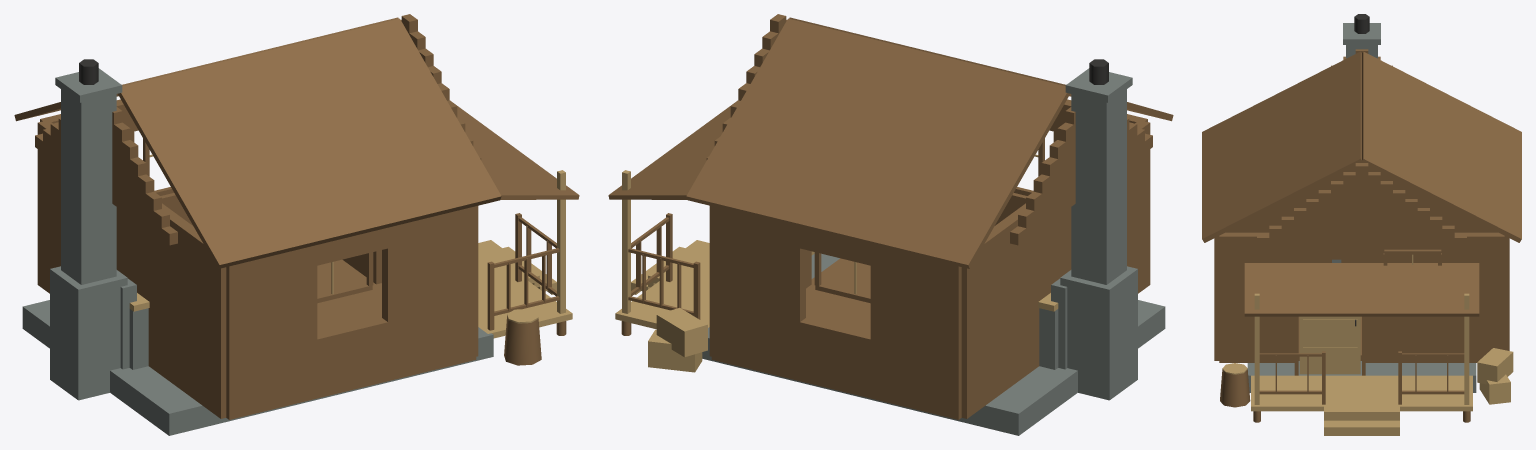
File: Farm house.glb
3 views of the same model, side by side, from view 1: azimuth 30°, elevation 25°; view 2: azimuth 150°, elevation 25°; view 3: azimuth 270°, elevation 25° (orthographic). The views are drawn at different scales.
Visible parts, largest first — view 1: Mesh_RoofA, Mesh_Body_WallBack, Mesh_Body_WallRight_L, Mesh_Body_WallRight_R, Mesh_ChimneyShaft, Mesh_ChimneyBase, Mesh_StoneBase, Mesh_Body_WallRight_Sill, Mesh_PorchRoof, Mesh_Body_Floor, Mesh_PorchFloor, Mesh_Body_WallRight_Lintel (+12 smaller); view 2: Mesh_RoofB, Mesh_Body_WallBack, Mesh_Body_WallLeft_R, Mesh_Body_WallLeft_L, Mesh_ChimneyShaft, Mesh_ChimneyBase, Mesh_StoneBase, Mesh_Body_WallLeft_Sill, Mesh_PorchRoof, Mesh_Body_Floor, Mesh_PorchFloor, Mesh_HayBale2 (+13 smaller); view 3: Mesh_RoofA, Mesh_RoofB, Mesh_PorchRoof, Mesh_Body_WallFront_L, Mesh_PorchFloor, Mesh_Body_WallFront_R, Mesh_Body_WallBack, Door, Mesh_StoneBase, Mesh_GableFront_0, Mesh_GableFront_1, Mesh_GableFront_2 (+21 smaller).
Part boxes in pixels (bbox=[...]): Mesh_RoofA: bbox=[118, 18, 501, 268]; Mesh_Body_WallBack: bbox=[37, 120, 226, 418]; Mesh_Body_WallRight_L: bbox=[226, 245, 317, 419]; Mesh_Body_WallRight_R: bbox=[382, 206, 476, 380]; Mesh_ChimneyShaft: bbox=[61, 89, 116, 284]; Mesh_ChimneyBase: bbox=[50, 266, 127, 400]; Mesh_StoneBase: bbox=[22, 300, 493, 435]; Mesh_Body_WallRight_Sill: bbox=[316, 318, 389, 398]; Mesh_PorchRoof: bbox=[450, 100, 579, 199]; Mesh_Body_Floor: bbox=[317, 259, 381, 333]; Mesh_PorchFloor: bbox=[478, 244, 572, 338]; Mesh_Body_WallRight_Lintel: bbox=[316, 227, 389, 265]; Mesh_RoofB: bbox=[686, 18, 1069, 268]; Mesh_Body_WallBack: bbox=[961, 120, 1150, 418]; Mesh_Body_WallLeft_R: bbox=[711, 206, 805, 381]; Mesh_Body_WallLeft_L: bbox=[870, 245, 961, 419]; Mesh_ChimneyShaft: bbox=[1071, 89, 1126, 284]; Mesh_ChimneyBase: bbox=[1060, 266, 1137, 400]; Mesh_StoneBase: bbox=[702, 253, 1165, 435]; Mesh_Body_WallLeft_Sill: bbox=[798, 318, 871, 398]; Mesh_PorchRoof: bbox=[608, 100, 737, 199]; Mesh_Body_Floor: bbox=[806, 258, 870, 333]; Mesh_PorchFloor: bbox=[615, 244, 709, 329]; Mesh_HayBale2: bbox=[656, 308, 707, 357]; Mesh_RoofA: bbox=[1202, 51, 1362, 242]; Mesh_RoofB: bbox=[1361, 51, 1521, 242]; Mesh_PorchRoof: bbox=[1244, 263, 1479, 316]; Mesh_Body_WallFront_L: bbox=[1362, 232, 1504, 362]; Mesh_PorchFloor: bbox=[1251, 375, 1472, 411]; Mesh_Body_WallFront_R: bbox=[1219, 232, 1298, 362]; Mesh_Body_WallBack: bbox=[1226, 166, 1497, 262]; Door: bbox=[1299, 316, 1360, 374]; Mesh_StoneBase: bbox=[1247, 361, 1476, 392]; Mesh_GableFront_0: bbox=[1257, 234, 1466, 246]; Mesh_GableFront_1: bbox=[1269, 225, 1454, 237]; Mesh_GableFront_2: bbox=[1281, 216, 1442, 228].
Size of what is drawn, in the model's own units: 6.65 by 4.35 by 5.04.
1 material, 1 textured.
